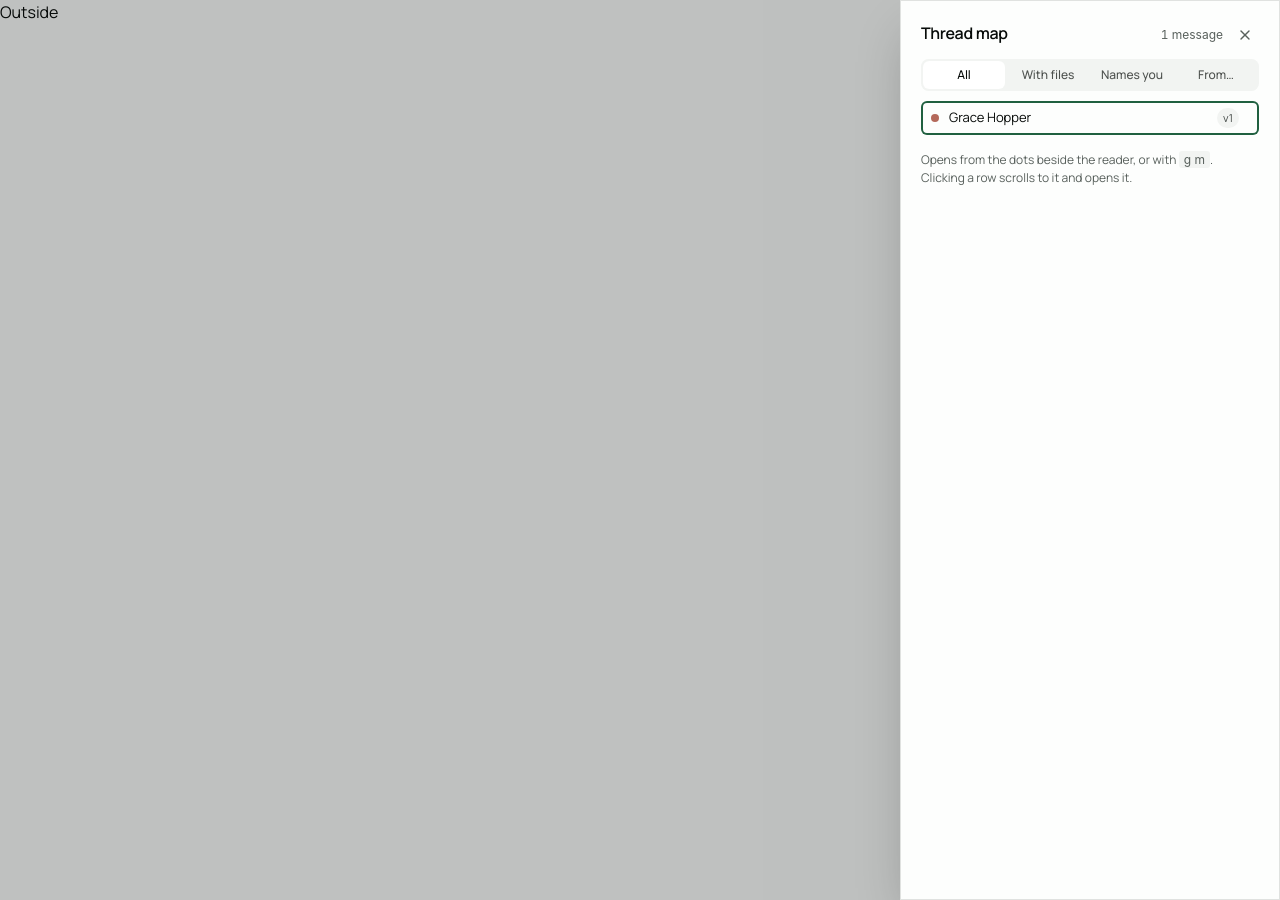
ThreadMapPanel as a sheet below xl › has no stopped rule when nothing was new, and says when no row matches
This screenshot has width=1280, height=900.
Check: the text "1 message" is shown, box [1161,27,1223,43]
Step 1. Click the button "Names you" → (1132, 75), box [1091,61,1173,89]
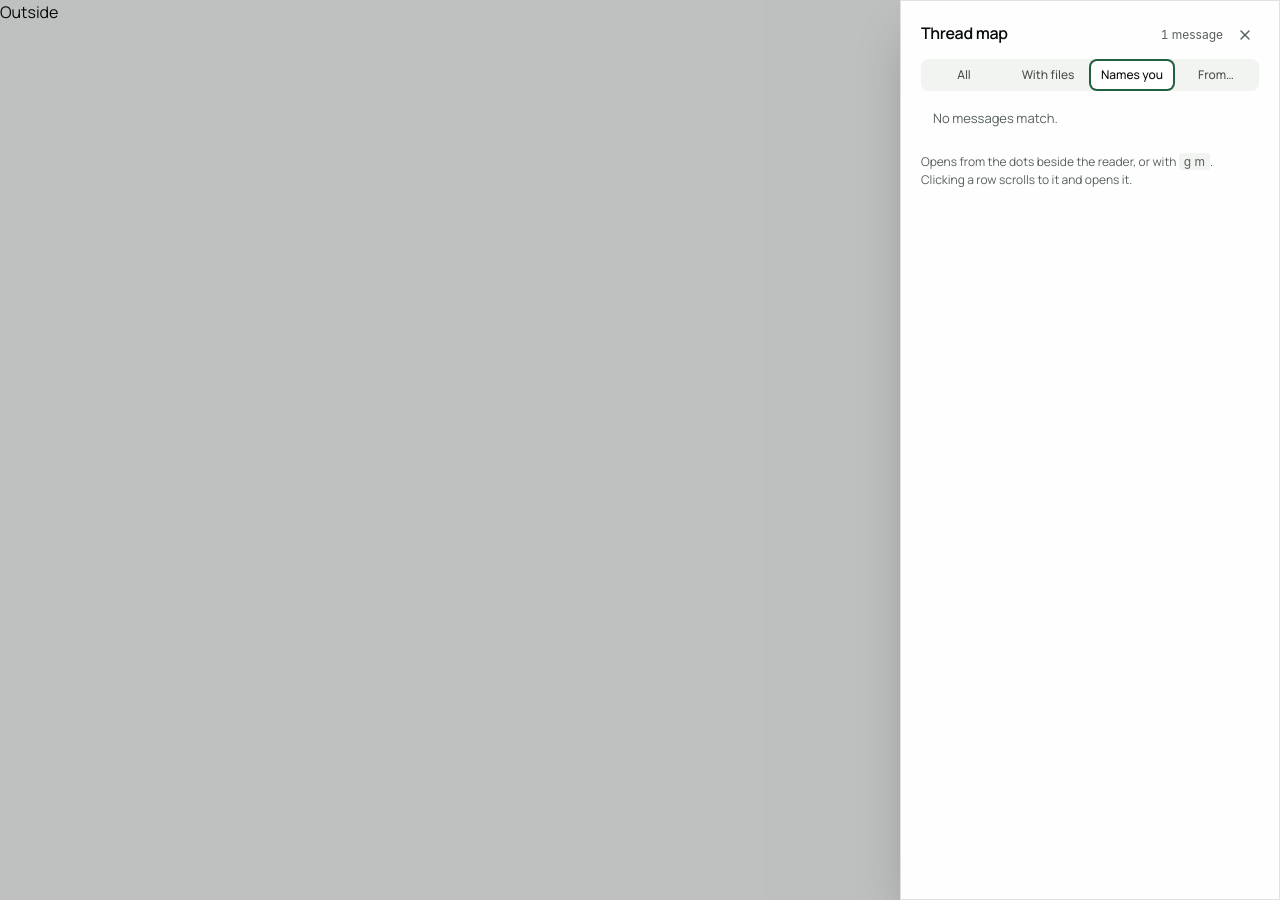
Check: the text "No messages match." is shown, box [933,109,1058,127]
